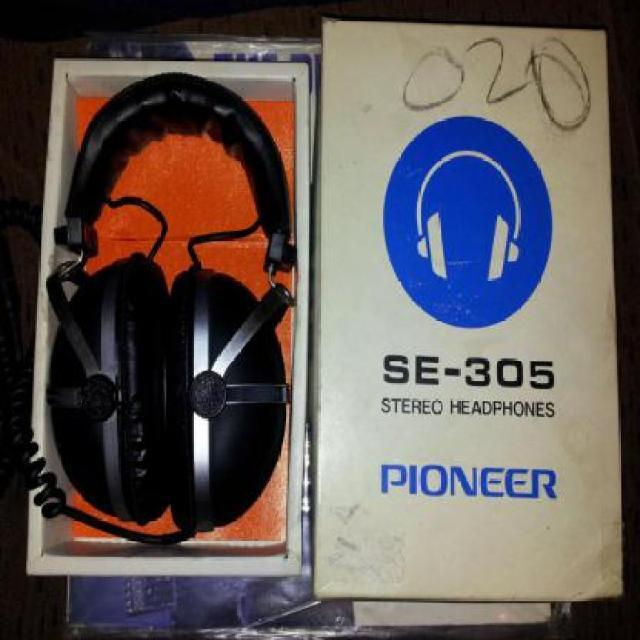earphone: (53, 72, 305, 550)
